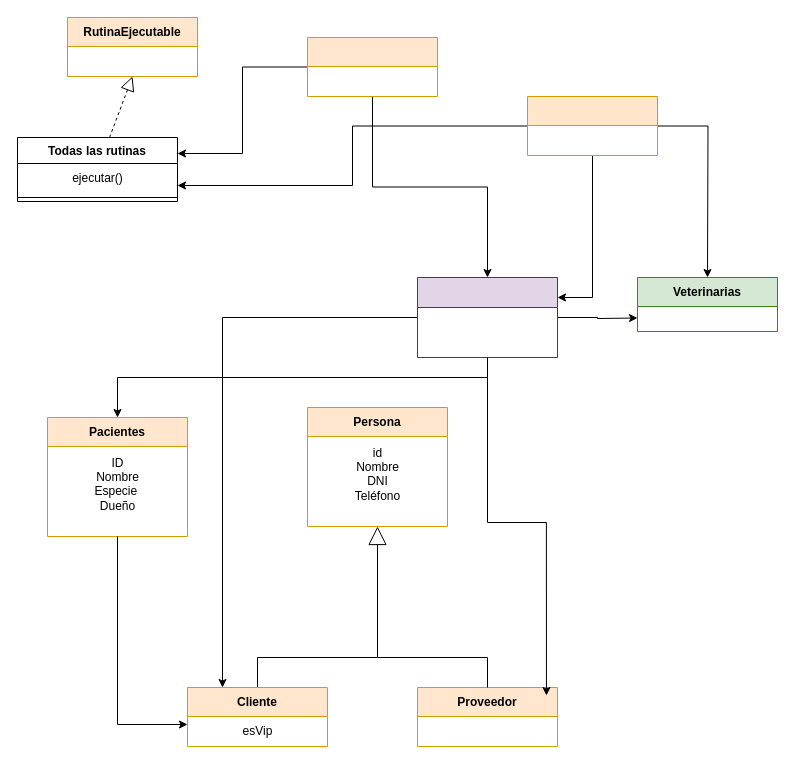
This 795x764 diagram has some shape labels left out. The centre of each missing label's shape, as x and y in pixels:
"MenuPrincipal" belongs at [372,66].
"Menú Veterinaria" belongs at [592,126].
"Red de Veterinarias" belongs at [487,317].
